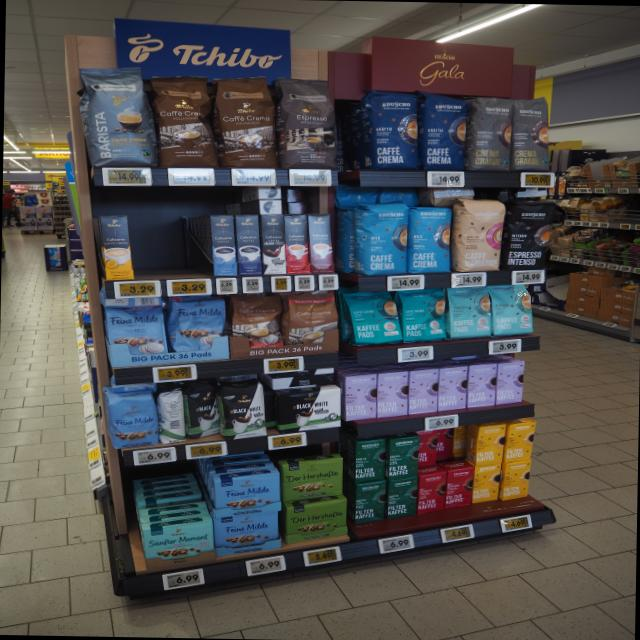BM Gemahlen: (276, 387, 342, 434)
BW Bohne: (213, 378, 267, 442), (181, 380, 220, 441)
Barista CC: (74, 66, 161, 170)
CC Vollmundig: (224, 293, 284, 353), (280, 292, 341, 351)
CC Vollmundig 36 Pads: (145, 74, 222, 169), (208, 74, 283, 170)
Empty Shelf: (136, 479, 214, 527), (157, 215, 193, 277), (128, 215, 161, 279)
Espresso Aromatisch: (268, 74, 344, 172)
FM 36 Pads: (103, 303, 171, 361), (165, 296, 227, 358)
FM Bohne: (102, 390, 161, 451)
FM Gemahlen: (208, 470, 282, 518), (213, 510, 280, 557)
Herzhatfe Mundig: (284, 497, 348, 545), (280, 456, 344, 503)
SM Gemahlen: (140, 520, 216, 568)
Simo CCMild bigpack: (99, 214, 134, 280)
Simo Es Elegant: (283, 213, 311, 274)
Simo Es Kraft: (307, 213, 335, 273)
Simo Kaffee BW: (259, 214, 286, 274)
Simo Kaffee Kraft: (234, 214, 263, 276)
Simo Kaffee Mild: (209, 214, 238, 276)
